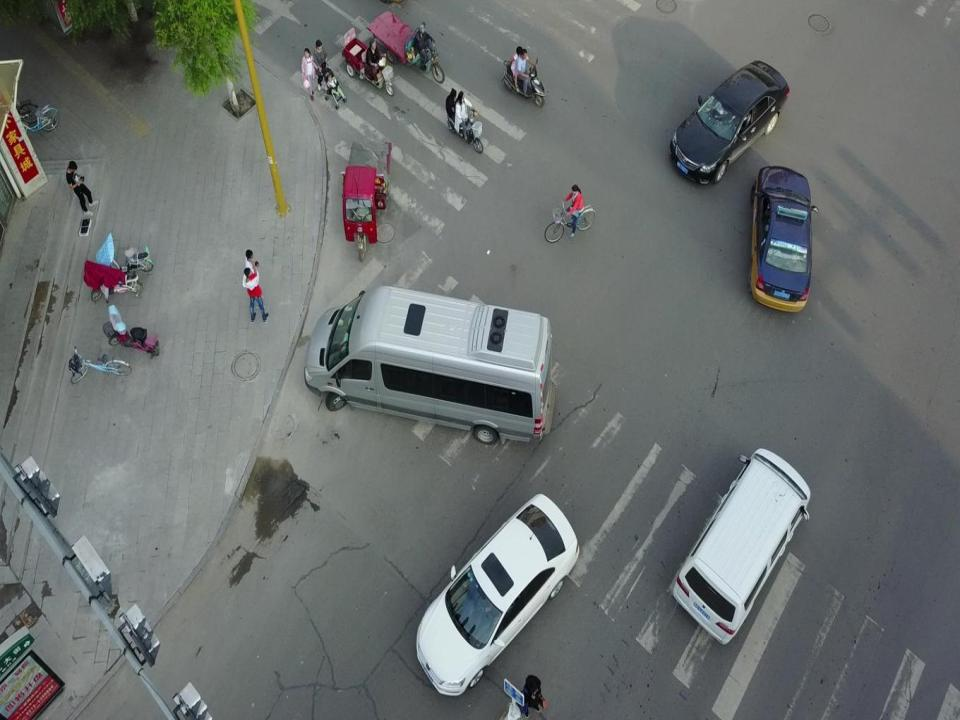car: (415, 487, 580, 698), (665, 58, 788, 190), (749, 160, 817, 329)
van: (302, 279, 553, 448), (671, 443, 812, 648)
